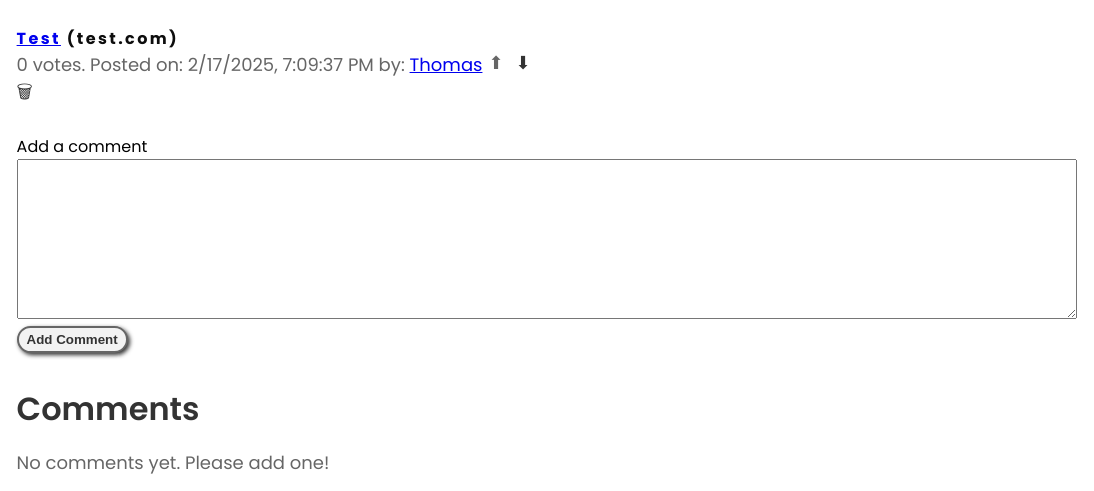
Blog component › allows user to delete blog post they created
The width and height of the screenshot is (1094, 491).
Click the button named "delete blog" at (28, 94), box [17,78,39,110]
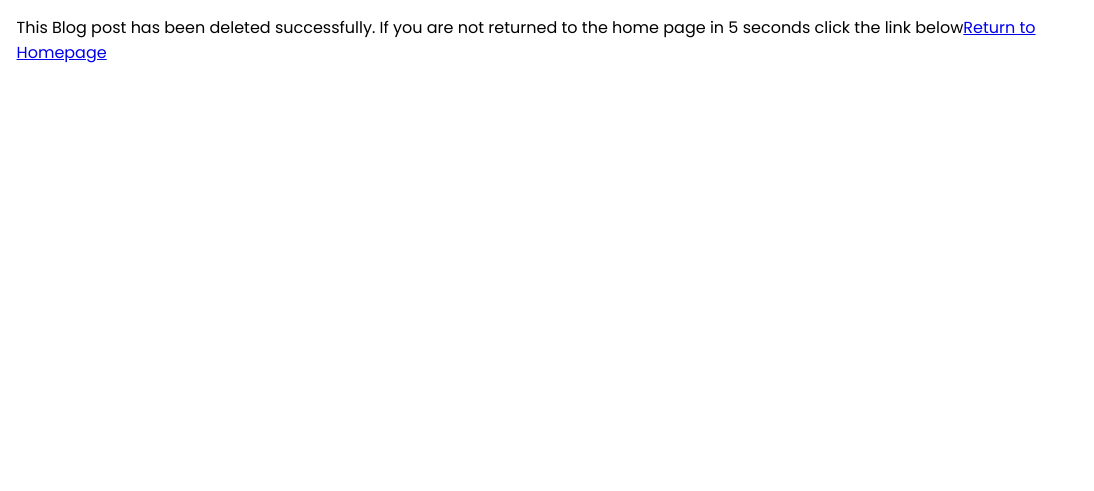
Expected: the text "This Blog post has been deleted successfully" is shown, [17,16,963,39]
